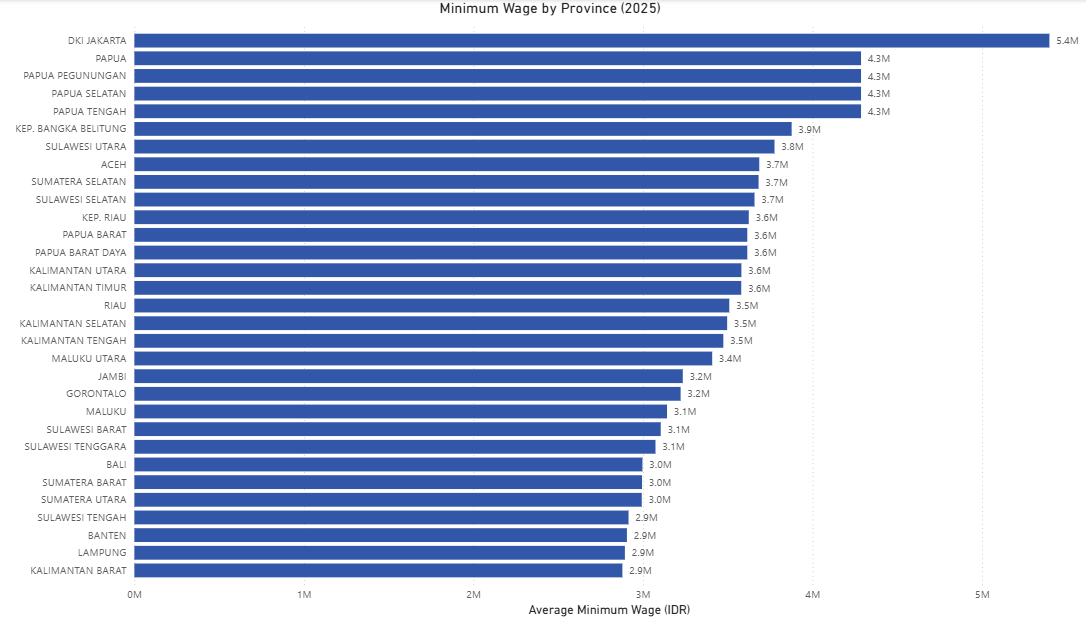

The page's visual inventory and layout, read from the dashboard file:
{"tool":"powerbi","page":{"name":"Provincial Comparison","canvas":[1280,720],"ordinal":1},"visuals":[{"type":"clusteredBarChart","title":"Minimum Wage by Province (2025)","fields":{"Category":["UMR Data.REGION"],"Y":["Avg(UMR Data.SALARY)"]},"box":[0,0,1280,719.6],"z":0}]}

Visuals, with their boxes in screenshot pixels (x1, y1, x2, y2), scaled from the page's 1280x720 canvas onto the 1086x620 screenshot:
"Minimum Wage by Province (2025)" clusteredBarChart: BBox(0, 0, 1085, 619)
